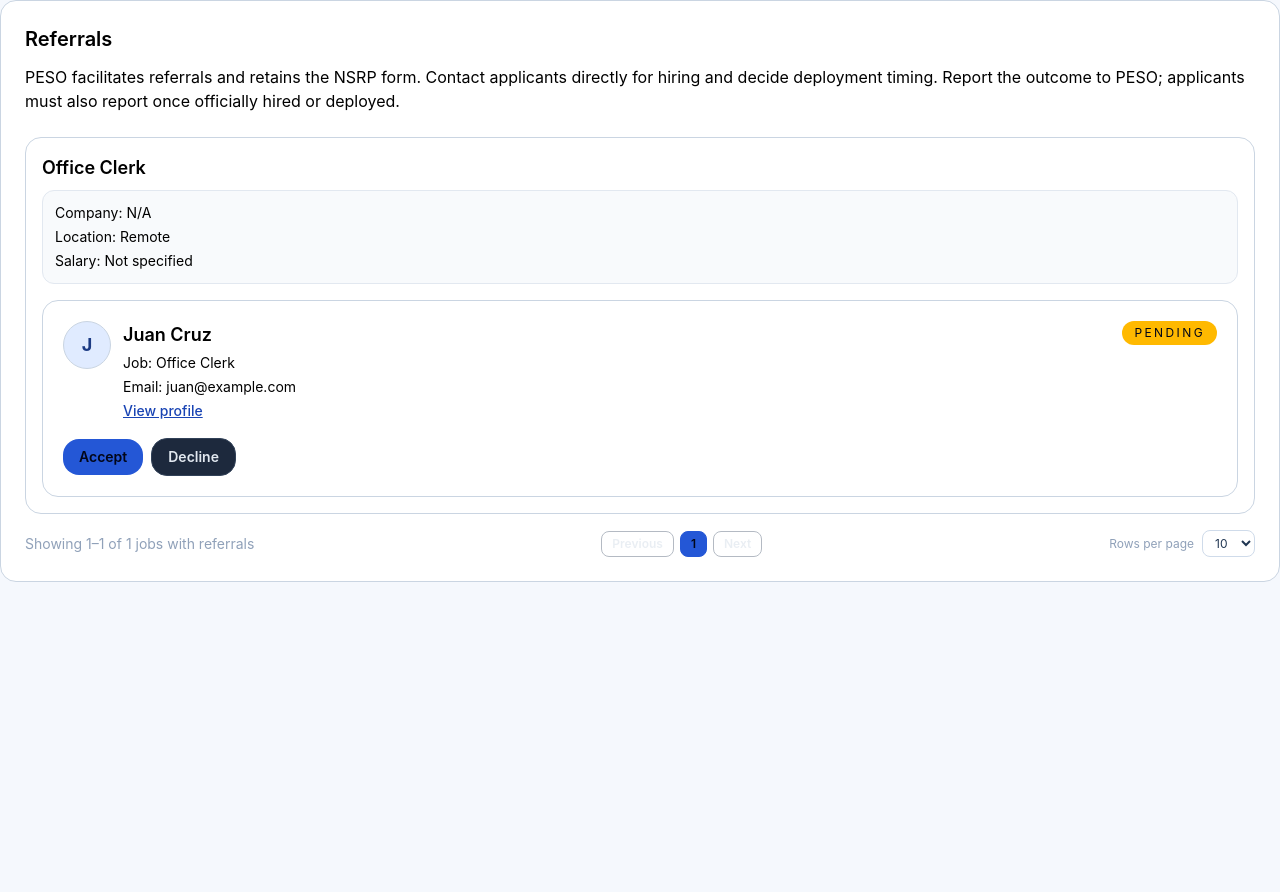
Test case: employment updates › keeps declined referrals available for reporting without replacing populated contact details
Expected: the text "Juan Cruz" is shown, [123, 324, 212, 345]
Click the button "Decline" at (194, 457), box [151, 438, 236, 476]
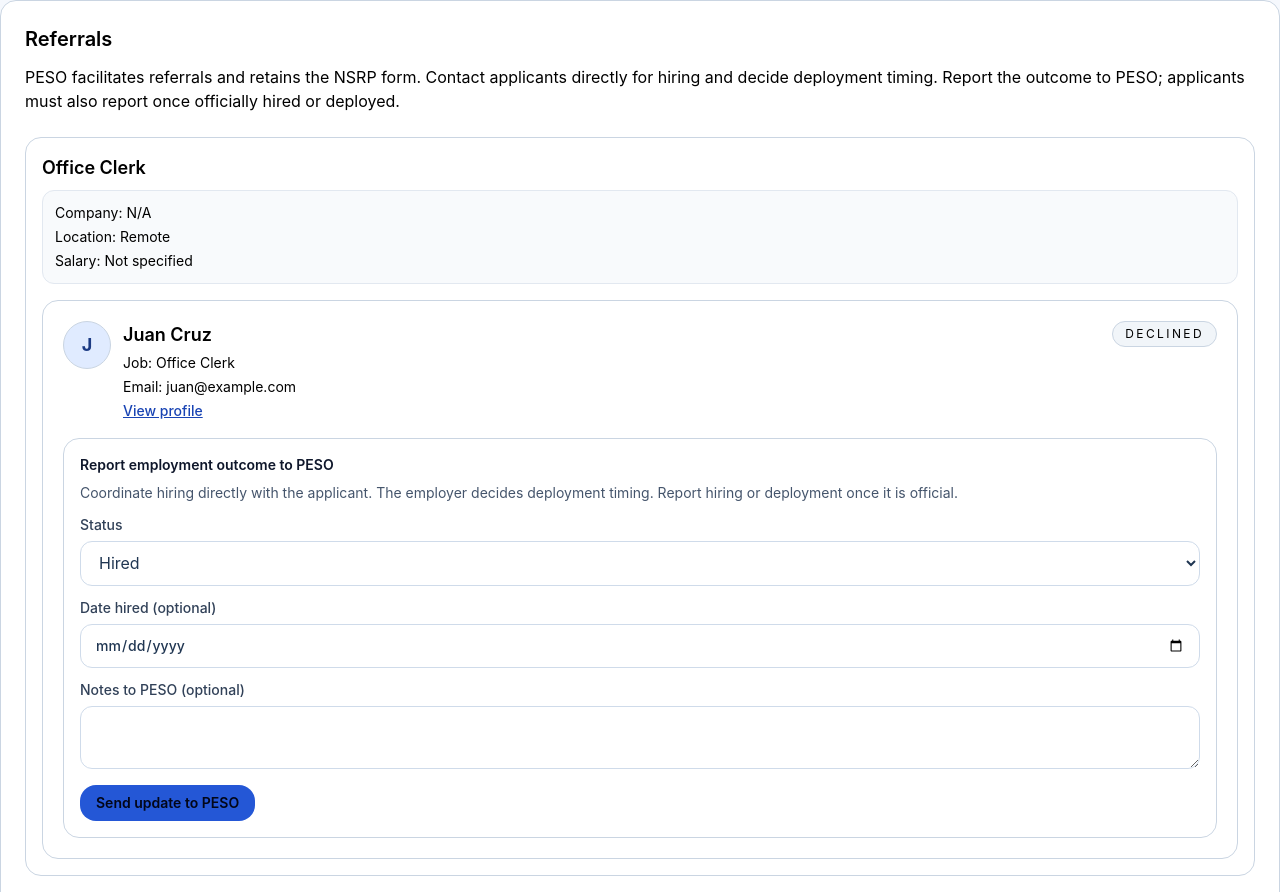
Expected: the text "Juan Cruz" is shown, [123, 324, 212, 345]
Now the button "Send update to PESO" is shown, box [80, 785, 255, 821]
